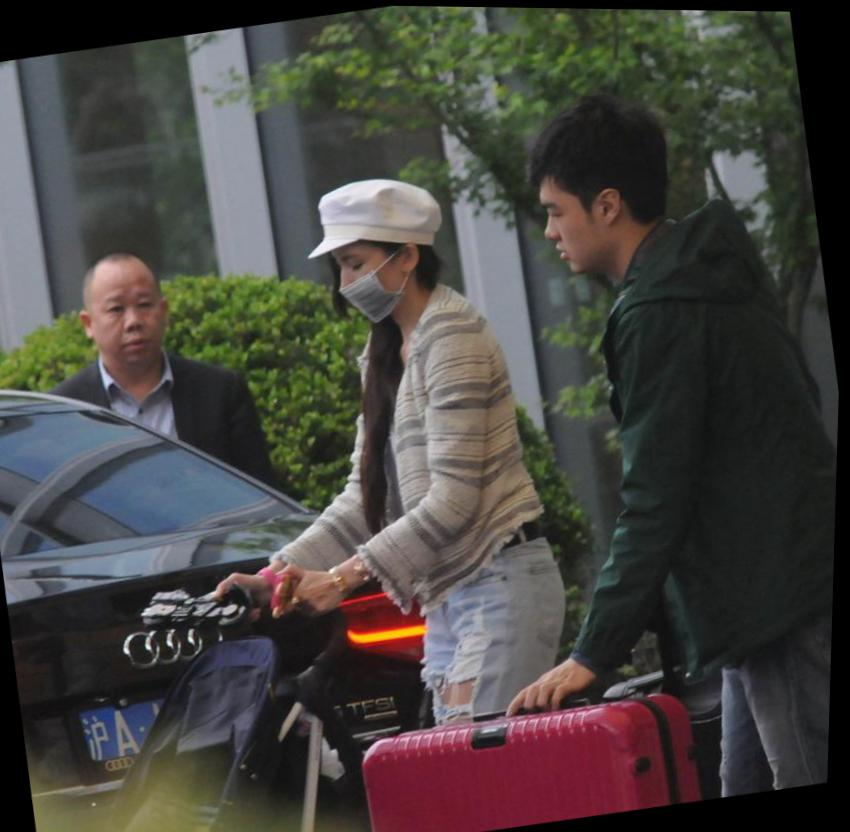NONE: (533, 180, 628, 275), (85, 279, 175, 367)
WRONG: (324, 237, 412, 324)
